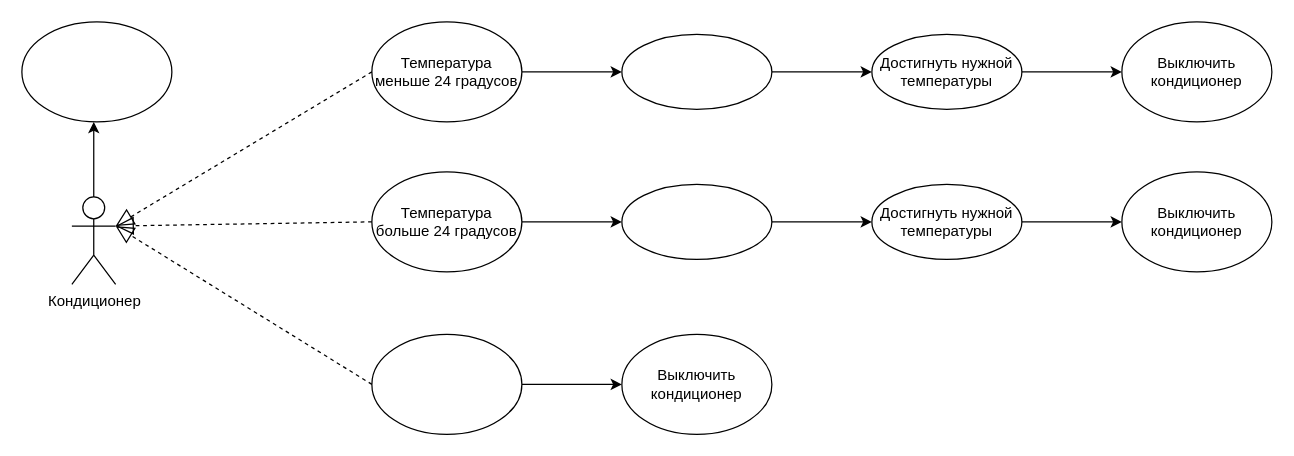
Image size: 1294x456. Some labels were removed from this diagram. The shapes that lost their labels are listed below. From the top down, each one's box as (x1, y1, x2, y2) in pixels, then its label:
(21, 21, 172, 122): Достигнуть температуры 24 градуса
(621, 33, 772, 109): Греть
(621, 183, 772, 259): Охлаждать
(371, 333, 522, 434): Температура равна 24 градуса
